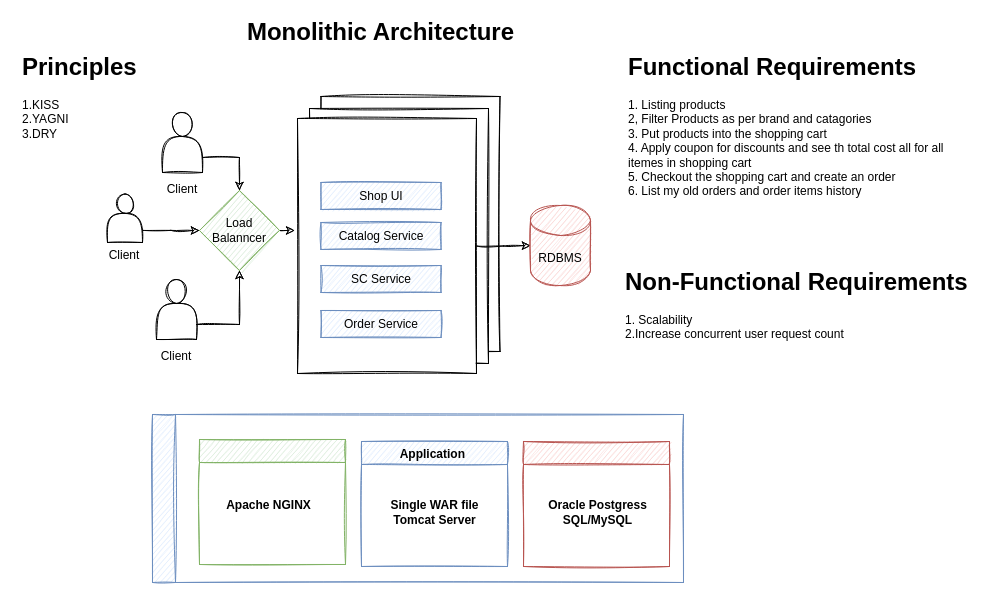
This 1001x600 diagram has some shape labels left out. The shapes that lost their labels are listed below. From the top down, each one's box as (x1, y1, x2, y2) in pixels, then its label:
(296, 118, 476, 374): E-Commerce Application
(198, 438, 346, 564): Load Balancer
(152, 414, 684, 582): Tech Stack
(522, 440, 670, 566): DataBase
